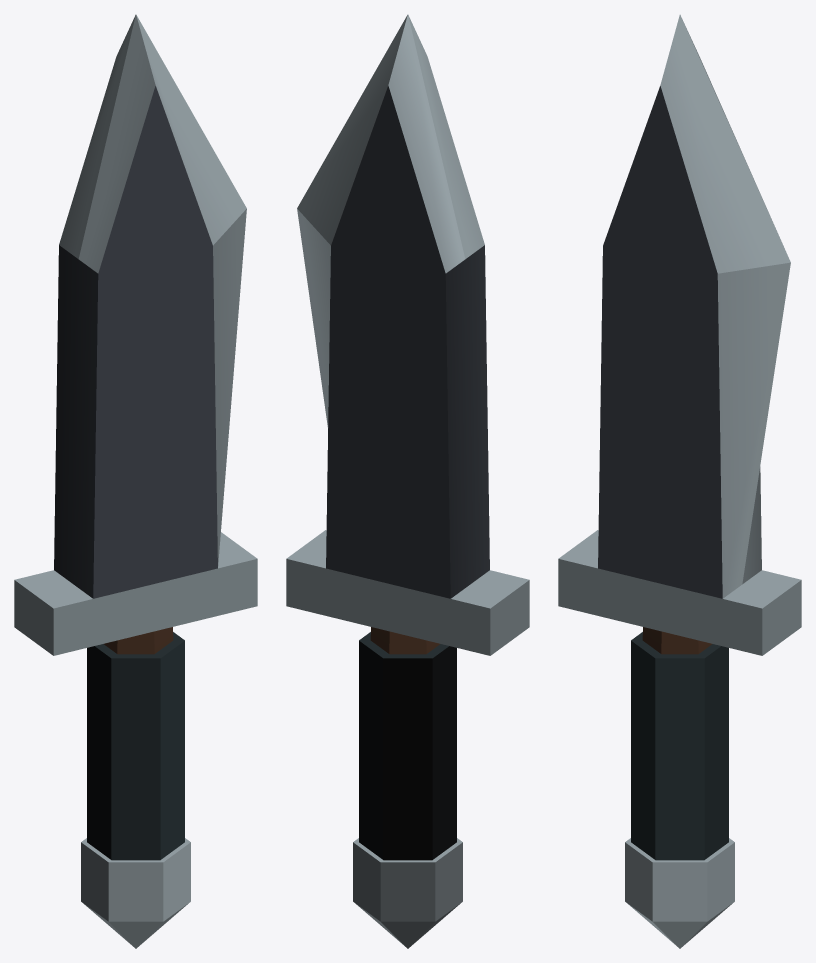
File: ranger_knives_1.gltf
3 renders of one model, left to right at view 1: azimuth 30°, elevation 25°; view 2: azimuth 150°, elevation 25°; view 3: azimuth 330°, elevation 25°, orthographic.
Visible parts, largest first — view 1: ranger_knives_1; view 2: ranger_knives_1; view 3: ranger_knives_1.
Part boxes in pixels (<box>): ranger_knives_1: <box>14,14,257,948</box>; ranger_knives_1: <box>286,14,529,948</box>; ranger_knives_1: <box>558,14,801,948</box>.
Bounding box in the file's own units: 0.1879 × 0.788 × 0.084.
1 material, 1 textured.
